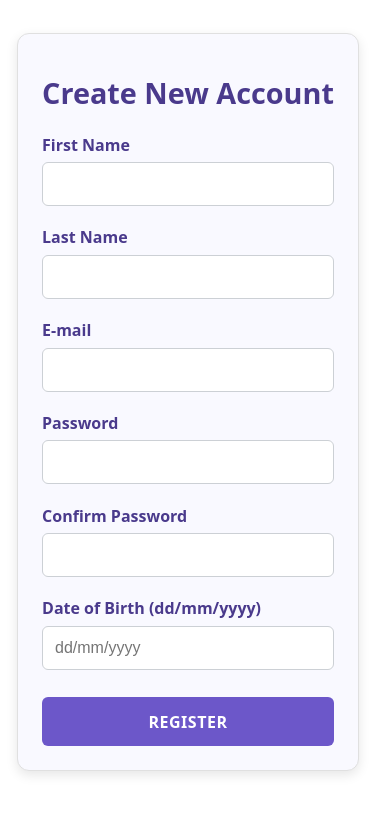
Test: Form Tests › shows password error
Type "123" into the password field labelled "Password" at x=188, y=462, box [42,440,334,484]
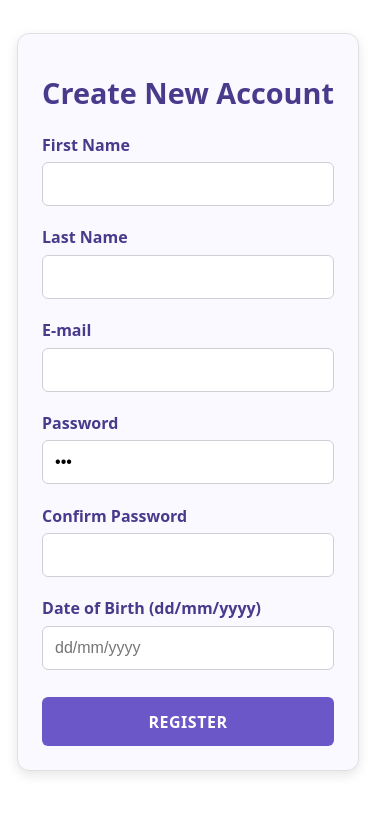
Click the button "REGISTER" at x=188, y=722, box [42,697,334,746]
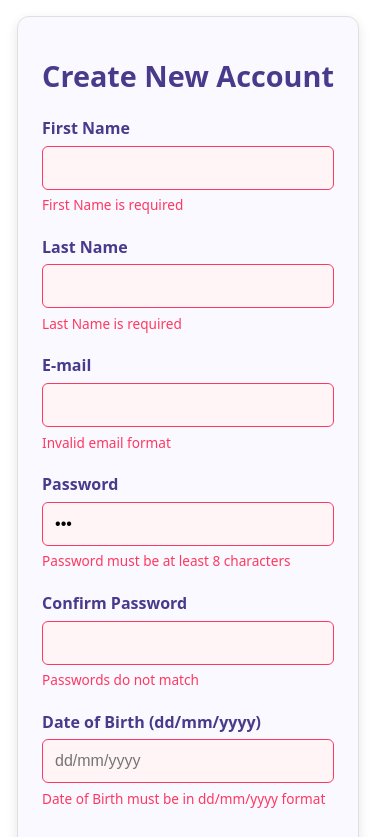
Result: the text "Password must be at least 8 characters" is shown at [42,551,334,572]
